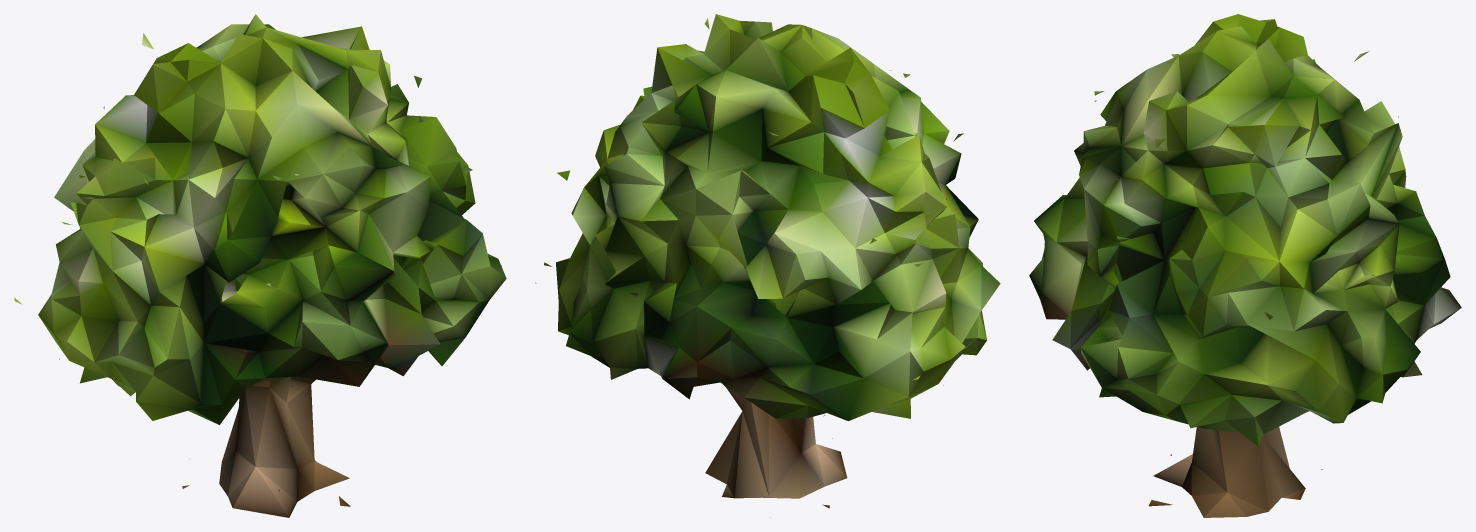
Rendered from oak.glb.
3 views of the same model, side by side, from view 1: azimuth 30°, elevation 25°; view 2: azimuth 150°, elevation 25°; view 3: azimuth 270°, elevation 25° (orthographic).
Visible parts, largest first — view 1: world; view 2: world; view 3: world.
Boxes of the visible parts, left/top/right/bottom form: world: left=14, top=14, right=506, bottom=517; world: left=535, top=14, right=1000, bottom=517; world: left=1029, top=14, right=1461, bottom=517.
Bounding box in the file's own units: 0.9358 × 1 × 0.867.
